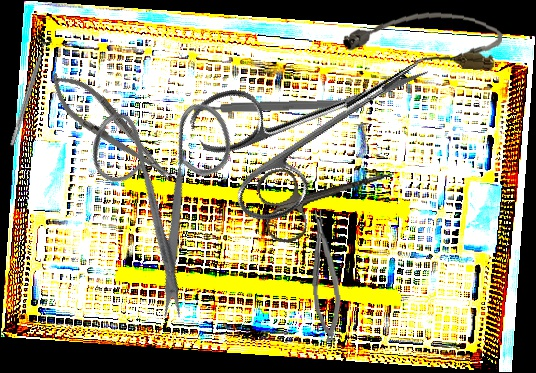Cannula: (340, 4, 505, 72)
Fixation Ring: (3, 33, 54, 149)
Iris Scissors: (38, 60, 305, 328), (183, 1, 457, 235), (253, 139, 404, 247)
Needle Holder: (39, 62, 183, 194), (308, 208, 343, 344)
Scalpel Handle: (193, 98, 356, 114)
